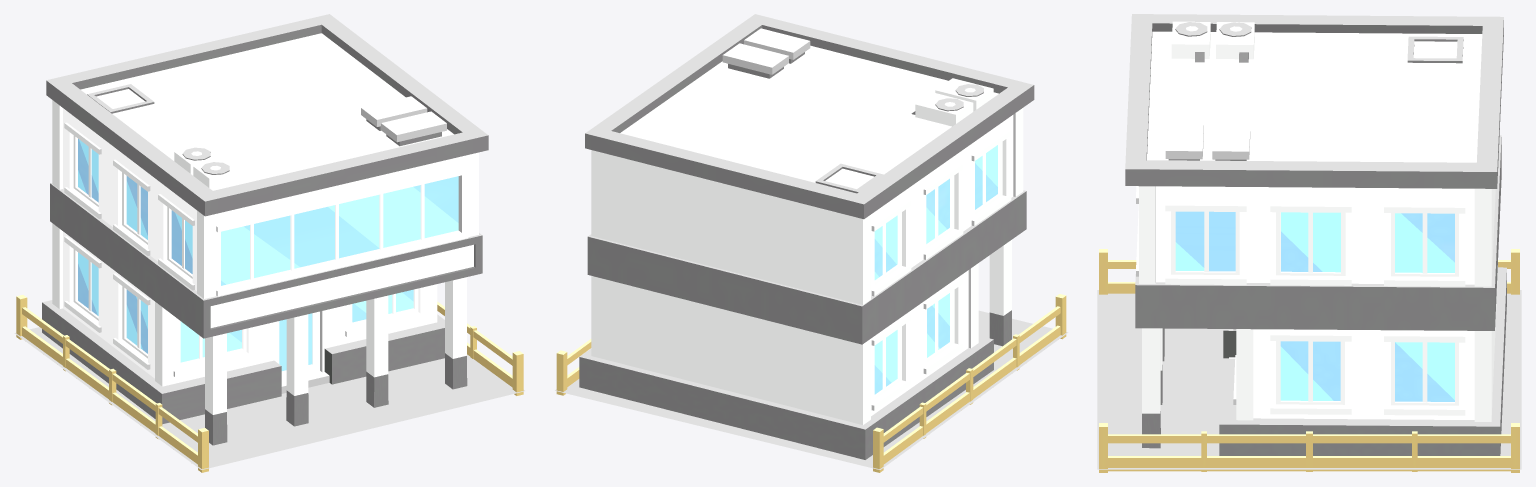
Rendered from tile_for_home_1x1.016 (1).glb.
3 renders of one model, left to right at view 1: azimuth 30°, elevation 25°; view 2: azimuth 150°, elevation 25°; view 3: azimuth 270°, elevation 25°, orthographic. The views are drawn at different scales.
Parts seen in each view (by area): view 1: bank.005 (1), tile_for_home_1x1.016 (1); view 2: bank.005 (1), tile_for_home_1x1.016 (1); view 3: bank.005 (1), tile_for_home_1x1.016 (1).
Boxes of the visible parts, x1=… form: bank.005 (1): x1=42, y1=14, x2=488, y2=445; tile_for_home_1x1.016 (1): x1=14, y1=295, x2=524, y2=472; bank.005 (1): x1=579, y1=14, x2=1034, y2=459; tile_for_home_1x1.016 (1): x1=555, y1=294, x2=1068, y2=472; bank.005 (1): x1=1125, y1=14, x2=1506, y2=455; tile_for_home_1x1.016 (1): x1=1097, y1=249, x2=1521, y2=472.
Bounding box in the file's own units: 8 × 6.17 × 8.
Materials: 1 (1 with a texture image).
